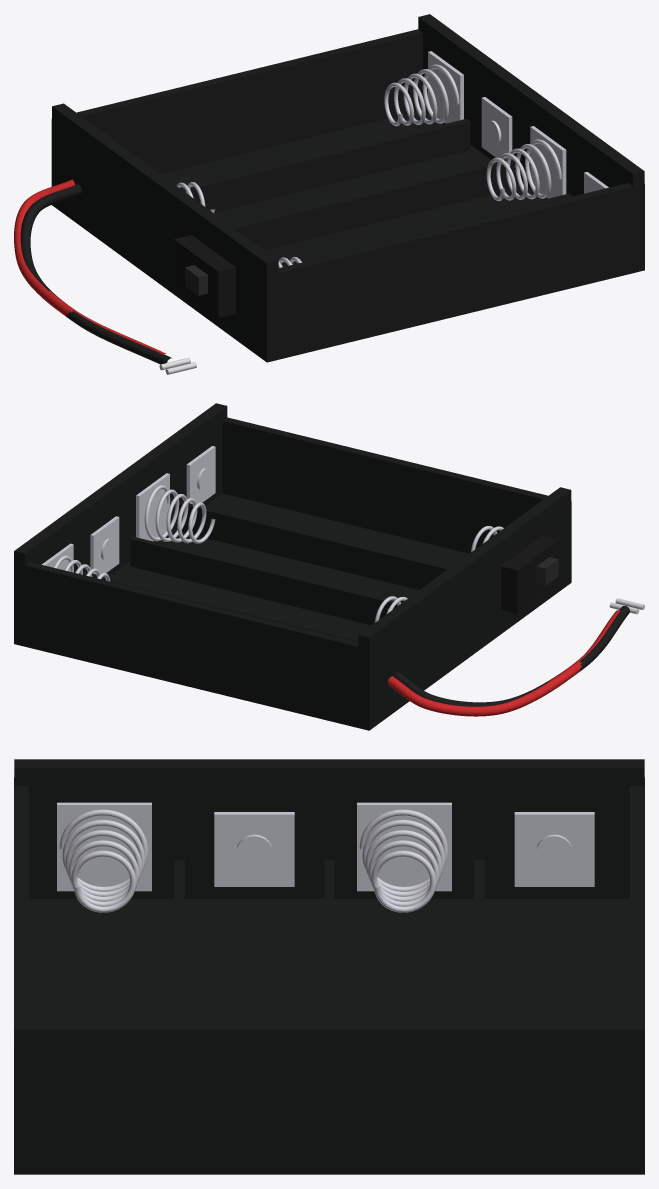
The model's file is portapilas-4xaa.glb.
3 renders of one model, top to bottom at view 1: azimuth 30°, elevation 25°; view 2: azimuth 150°, elevation 25°; view 3: azimuth 270°, elevation 25°, orthographic. The views are drawn at different scales.
Bounding box in the file's own units: 81.79 × 16.55 × 63.1.
Materials: 4 (4 with a texture image).
